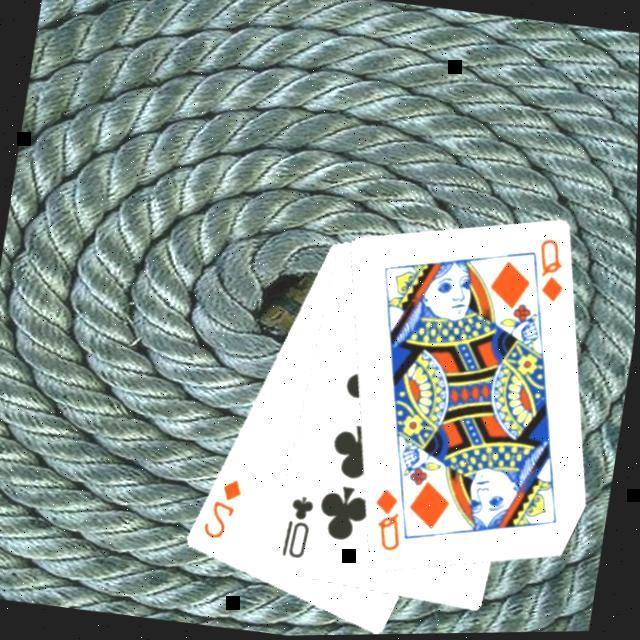10C: (277, 489, 318, 563)
2D: (199, 471, 247, 545)
QD: (364, 483, 412, 557), (528, 233, 574, 308)
